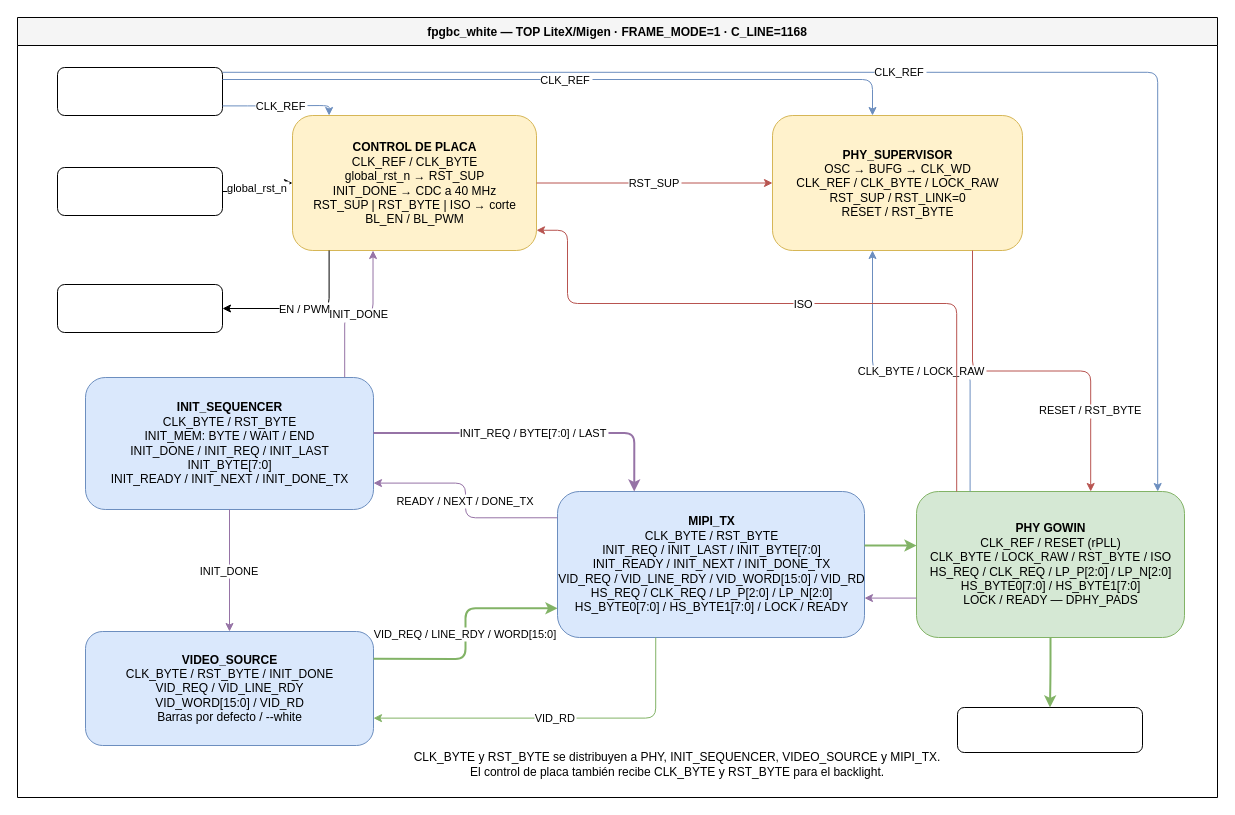
Image size: 1235x815. Some labels were removed from this diagram. Here are the shapes that lost their labels. From the top down, the centre of each, then its label:
point (139, 91): Pin 11 CLK_REF · 40 MHz
point (139, 191): Pin 120 global_rst_n
point (139, 308): Backlight EN 46 / PWM 47
point (1049, 729): Pads D0 / D1 / CLK 6 LP + 6 HS
